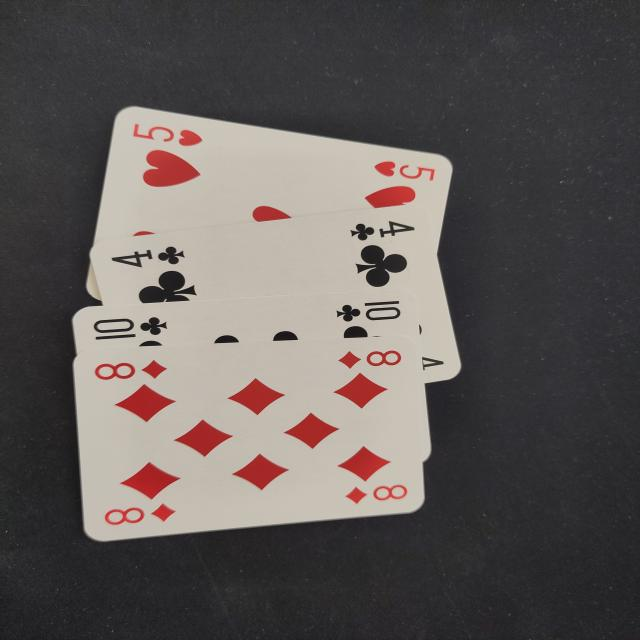10c: (84, 313, 176, 345), (326, 297, 409, 327)
4c: (102, 242, 194, 272), (341, 218, 426, 248)
5h: (129, 118, 209, 155), (367, 154, 442, 186)
8d: (86, 356, 174, 390), (324, 344, 410, 375), (98, 500, 181, 531), (339, 483, 411, 512)
